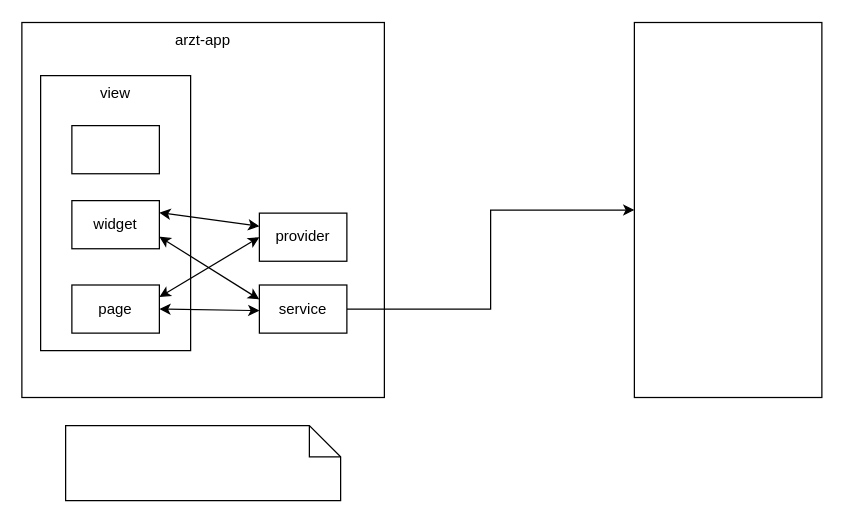
Some shapes in this 844 by 523 pixel diagram are drawn without their labels. The centre of each missing label's shape, as x and y in pixels:
"doctor_app_server" goes at [727,209].
"model" goes at [115,149].
"provider: state management service: additional function for the view" goes at [202,462].
